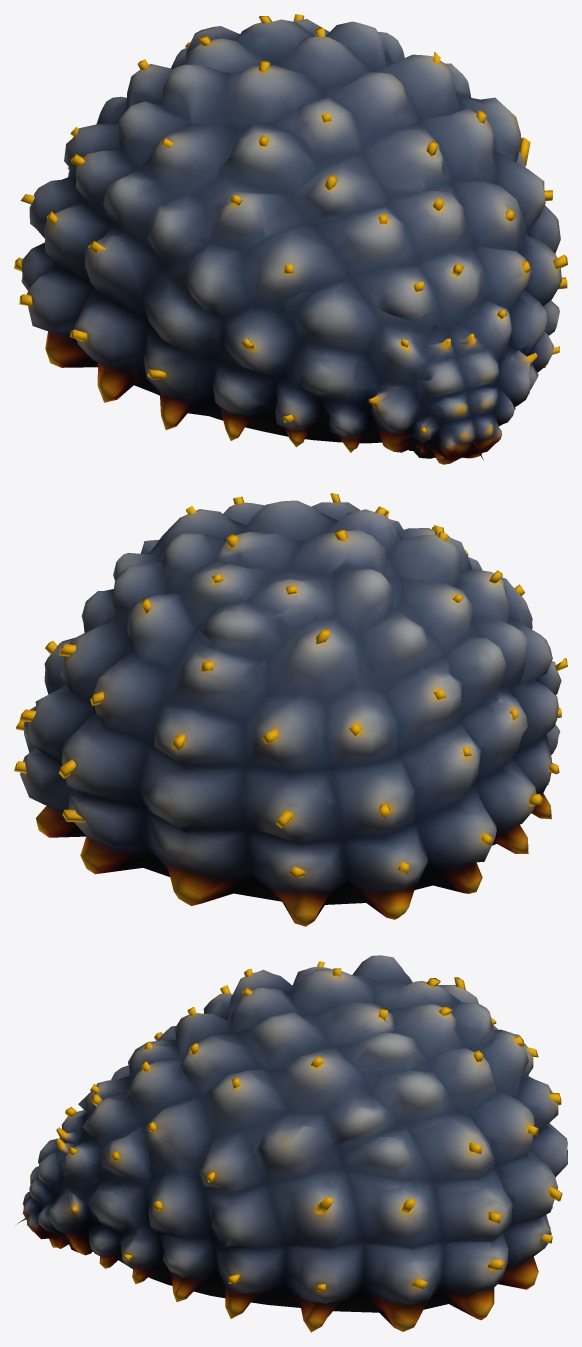
File: runtime-barnacle-cluster.glb
3 views of the same model, one above another, from view 1: azimuth 30°, elevation 25°; view 2: azimuth 150°, elevation 25°; view 3: azimuth 270°, elevation 25° (orthographic). The views are drawn at different scales.
Parts seen in each view (by area): view 1: tripo_node_22c67819-49e4-4d30-915a-ae119fd59d98; view 2: tripo_node_22c67819-49e4-4d30-915a-ae119fd59d98; view 3: tripo_node_22c67819-49e4-4d30-915a-ae119fd59d98.
Boxes of the visible parts, left/top/right/bottom form: tripo_node_22c67819-49e4-4d30-915a-ae119fd59d98: left=14, top=14, right=567, bottom=464; tripo_node_22c67819-49e4-4d30-915a-ae119fd59d98: left=14, top=493, right=567, bottom=926; tripo_node_22c67819-49e4-4d30-915a-ae119fd59d98: left=15, top=955, right=567, bottom=1332.
Bounding box in the file's own units: 1.66 × 1 × 1.91.
1 material, 1 textured.
